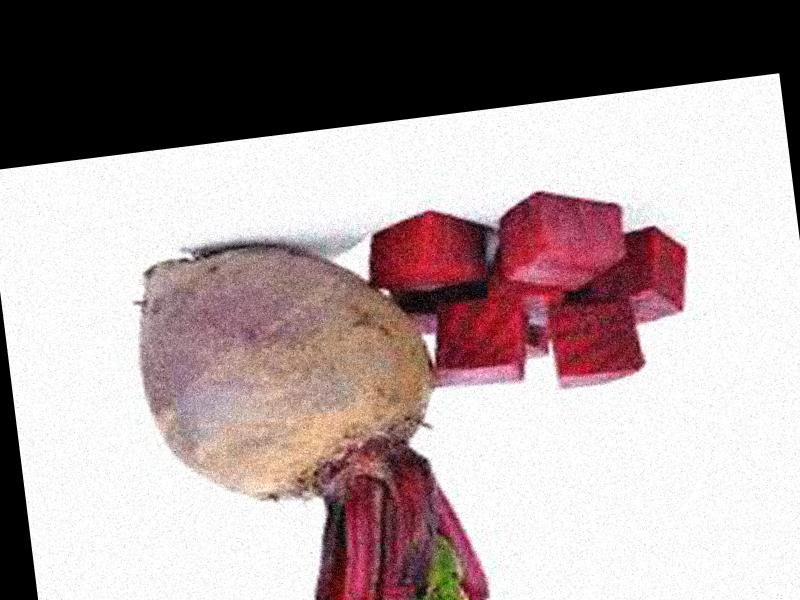Beet: (128, 220, 491, 600)
